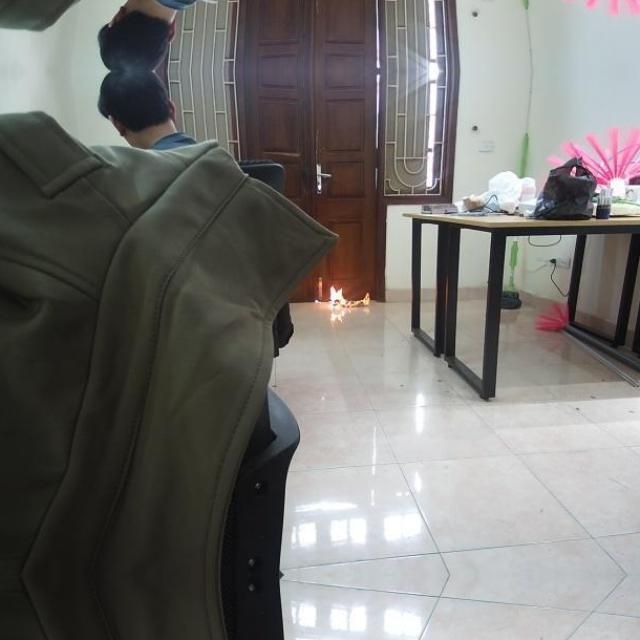smoke: (328, 284, 369, 306)
